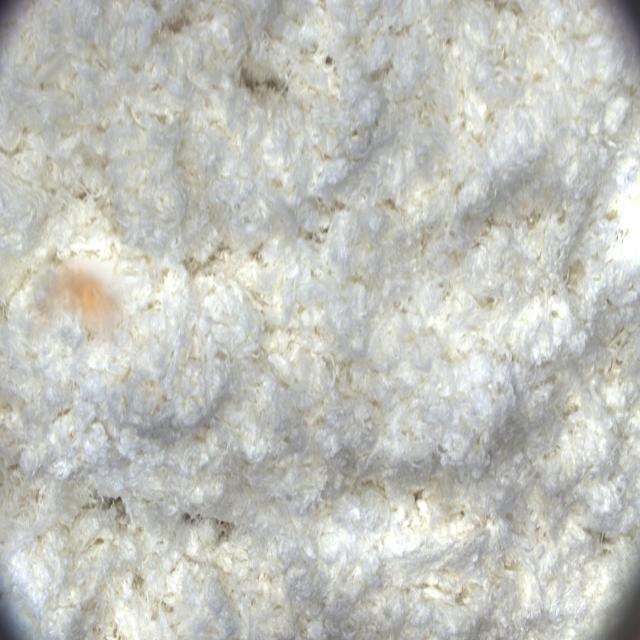dust: (28, 255, 134, 355)
